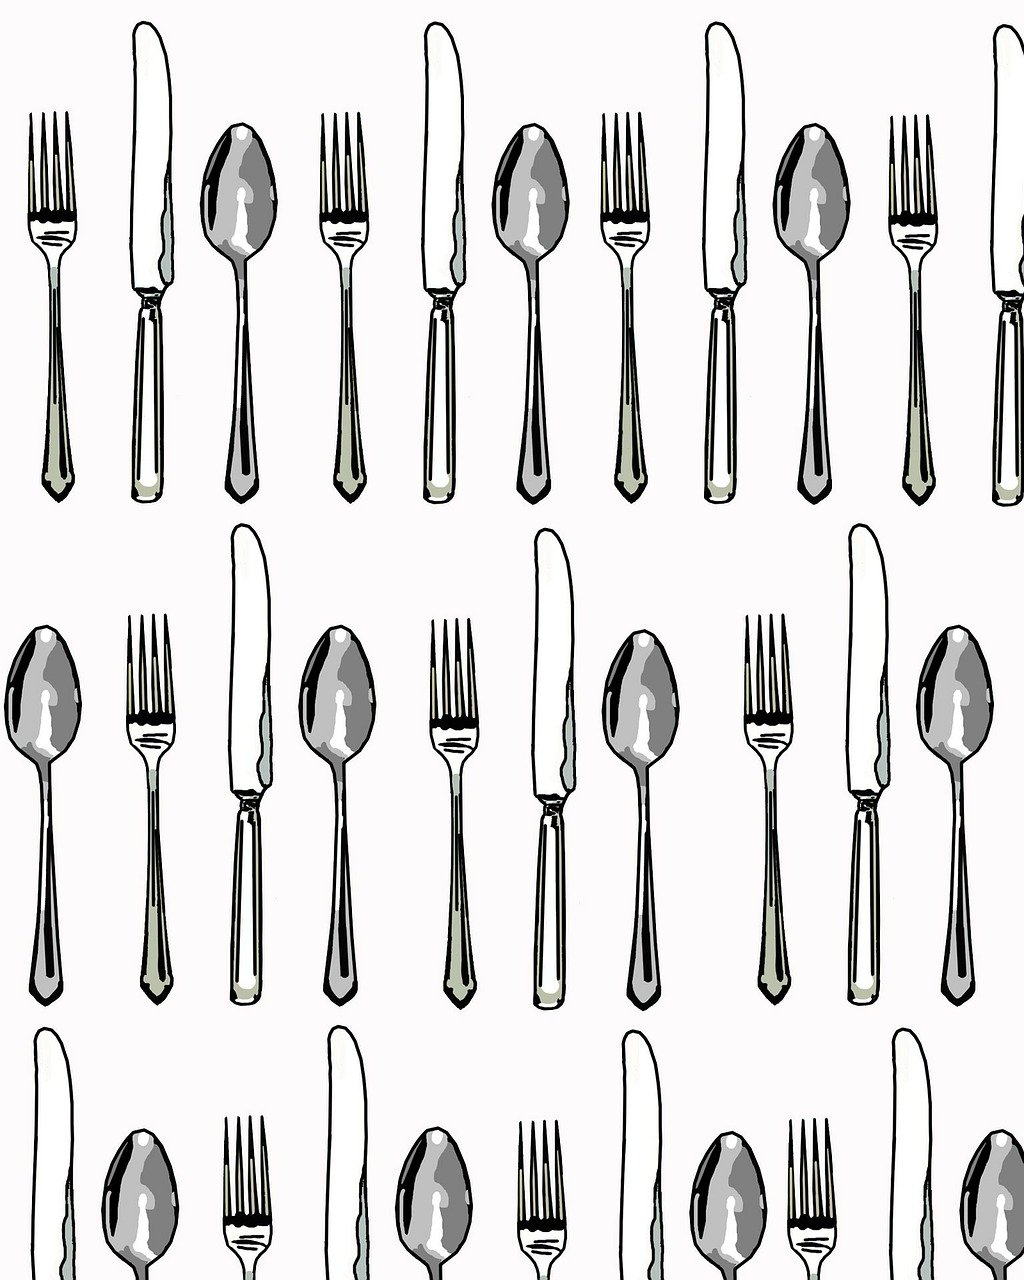knife: (206, 515, 271, 1011), (529, 518, 581, 1020), (693, 6, 743, 511), (843, 511, 893, 1005), (414, 17, 462, 505), (130, 4, 169, 509), (986, 24, 1024, 505), (882, 1029, 942, 1280), (613, 1029, 674, 1280), (24, 1022, 83, 1280), (319, 1020, 375, 1280)
